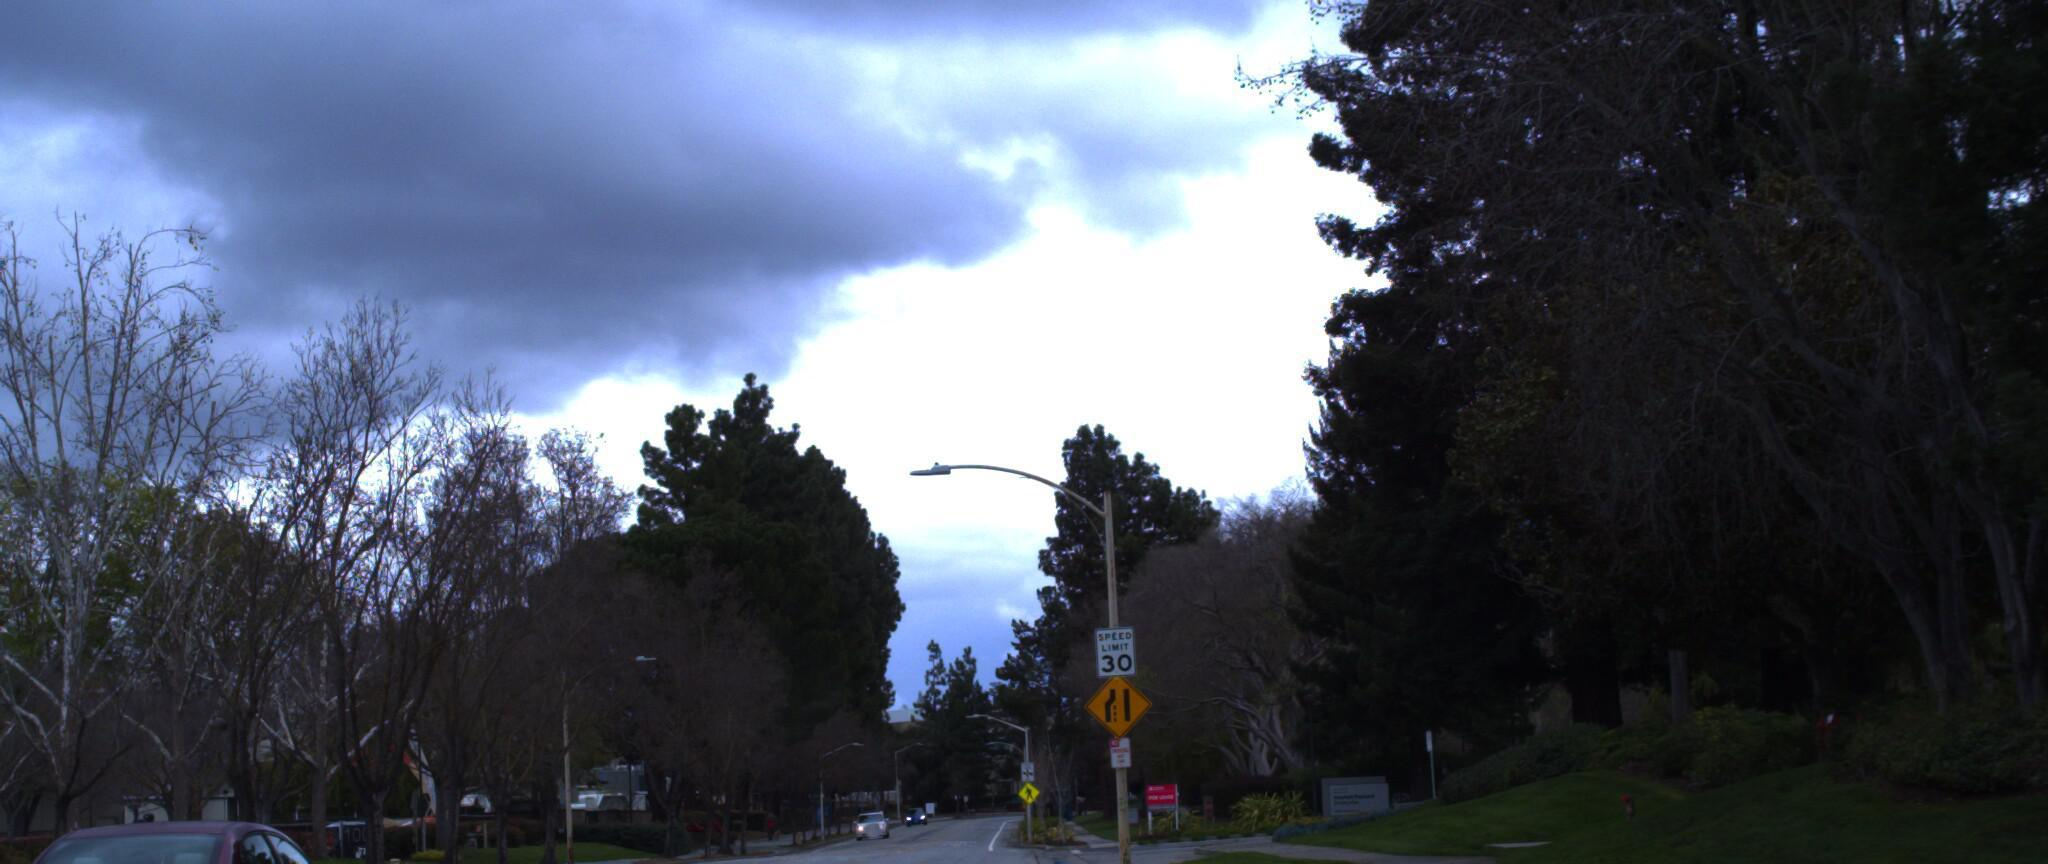car: (0, 810, 375, 864)
